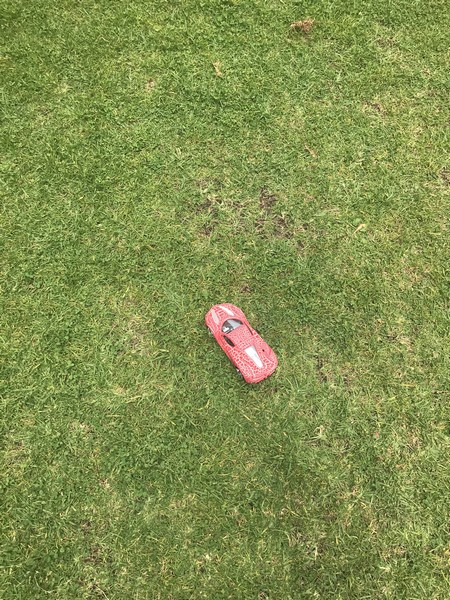RC: (203, 300, 279, 385)
